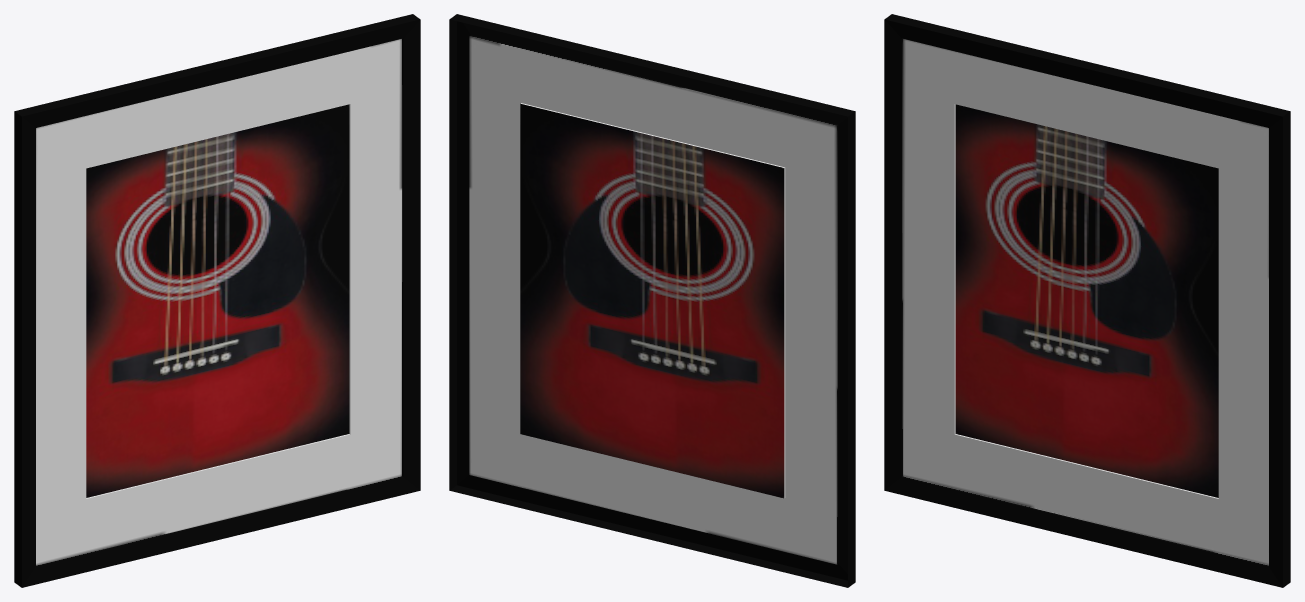
Rendered from HW_FramePhoto06.fbx.
3 renders of one model, left to right at view 1: azimuth 30°, elevation 25°; view 2: azimuth 150°, elevation 25°; view 3: azimuth 330°, elevation 25°, orthographic.
Visible parts, largest first — view 1: HW_FramePhoto06; view 2: HW_FramePhoto06; view 3: HW_FramePhoto06.
Boxes of the visible parts, bbox=[...] form: HW_FramePhoto06: bbox=[14, 14, 420, 587]; HW_FramePhoto06: bbox=[449, 14, 855, 587]; HW_FramePhoto06: bbox=[884, 14, 1290, 587].
Bounding box in the file's own units: 0.77 × 0.87 × 0.025.
